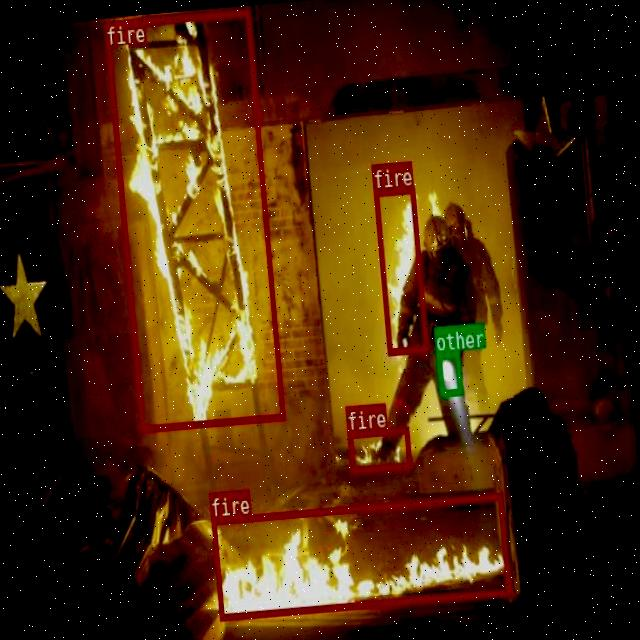fire: (104, 7, 284, 431), (209, 492, 510, 620), (372, 186, 427, 354), (346, 425, 412, 473)
